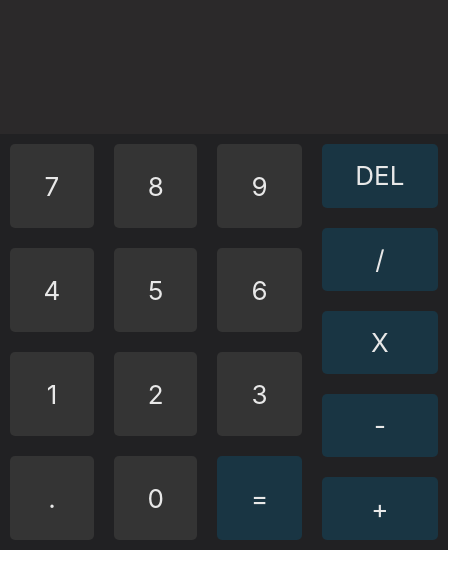
should display 2 numbers and then remove only the last one
Click the text "3": (260, 394) x1=218 y1=352 x2=302 y2=436
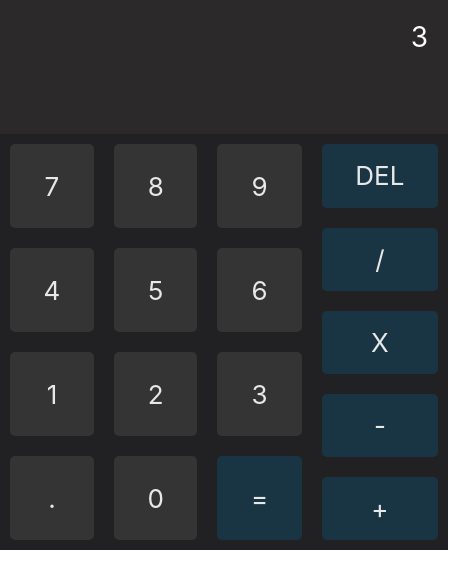
Click the text "5": (156, 290) x1=114 y1=248 x2=197 y2=332
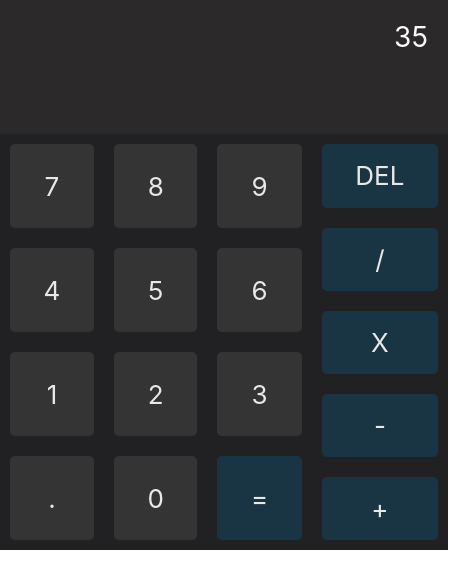
expect the text with test id "expression" reads "35": met, box x1=394 y1=20 x2=428 y2=54
Click the text with test id "delete": (380, 176) x1=322 y1=144 x2=438 y2=208
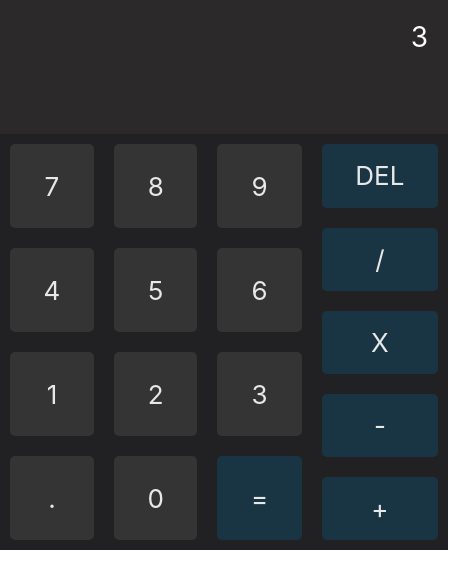
expect the text with test id "expression" reads "3": met, box x1=411 y1=20 x2=428 y2=54
